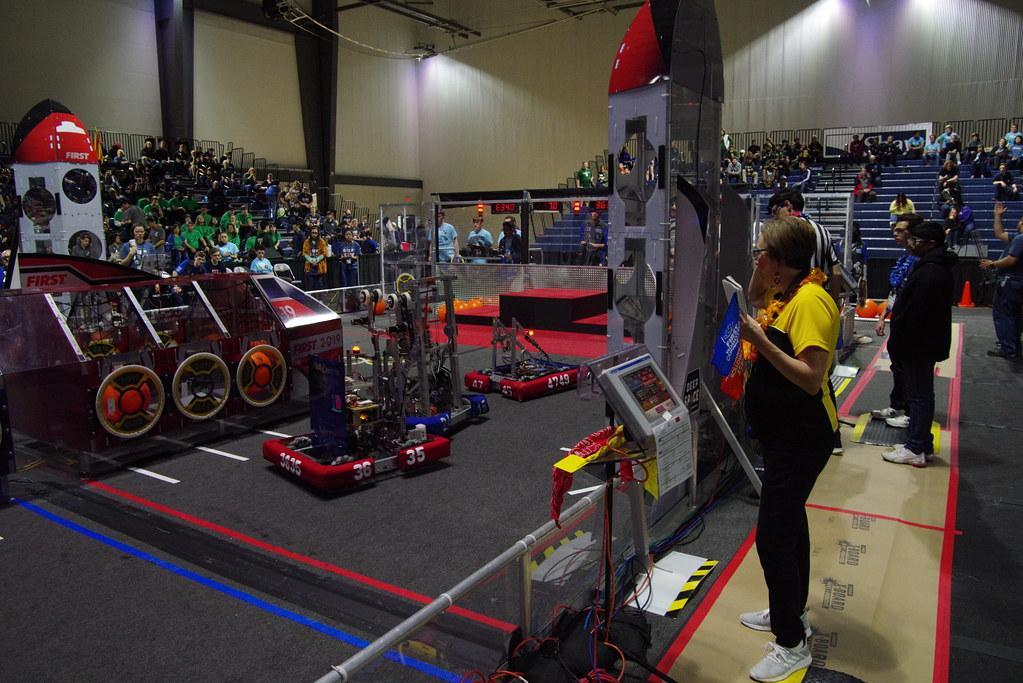robot: (256, 321, 456, 496), (346, 267, 495, 447), (464, 317, 592, 406)
